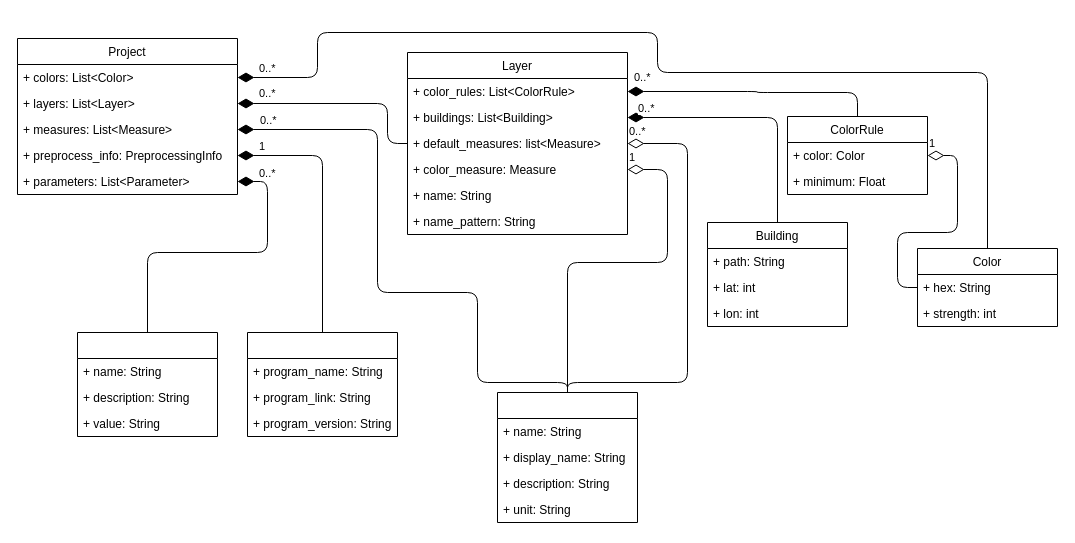
Some shapes in this 1075 by 543 pixel diagram are drawn without their labels. Here are the shapes that lost their labels. From the top down, the box of each, then its label:
(76, 332, 218, 436): Parameter
(246, 332, 398, 436): PreprocessingInfo
(496, 392, 638, 522): Measure
